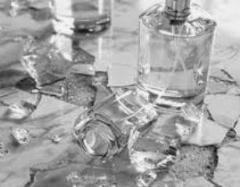glass: (135, 0, 217, 116), (70, 89, 160, 165)
